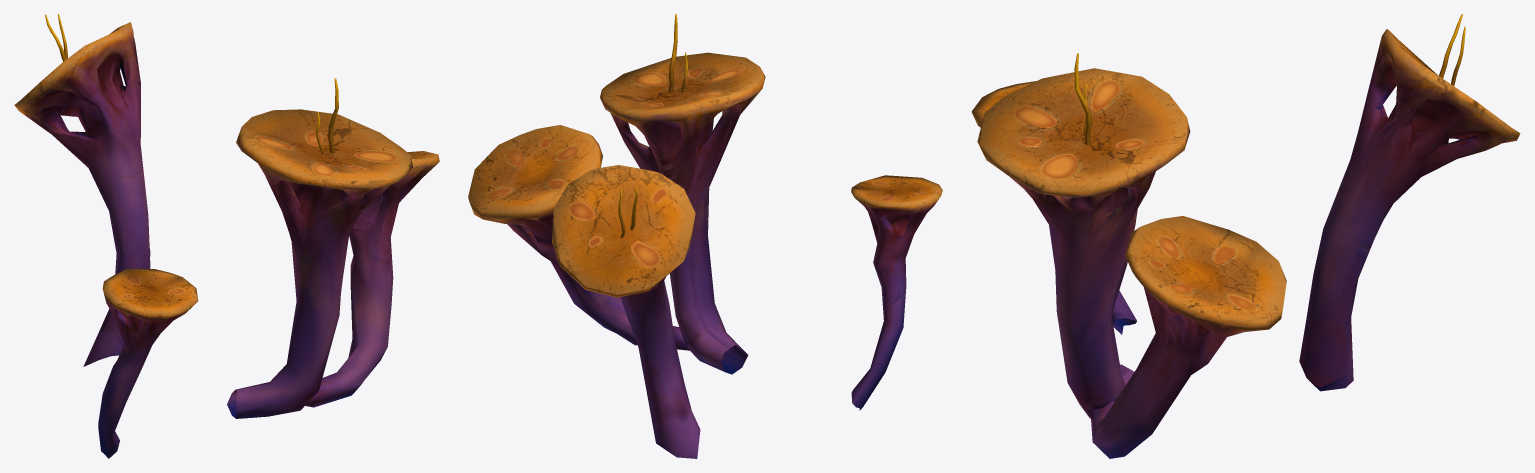
File: VegetationSmall07_03.fbx
3 renders of one model, left to right at view 1: azimuth 30°, elevation 25°; view 2: azimuth 150°, elevation 25°; view 3: azimuth 270°, elevation 25°, orthographic. The views are drawn at different scales.
Parts seen in each view (by area): view 1: VegetationSmall07_03_LOD00; view 2: VegetationSmall07_03_LOD00; view 3: VegetationSmall07_03_LOD00.
Boxes of the visible parts, x1,y1,x2,y2 form: VegetationSmall07_03_LOD00: (14, 14, 439, 458); VegetationSmall07_03_LOD00: (468, 14, 942, 458); VegetationSmall07_03_LOD00: (971, 14, 1520, 458).
Size of what is drawn, in the model's own units: 103 by 85.4 by 106.
